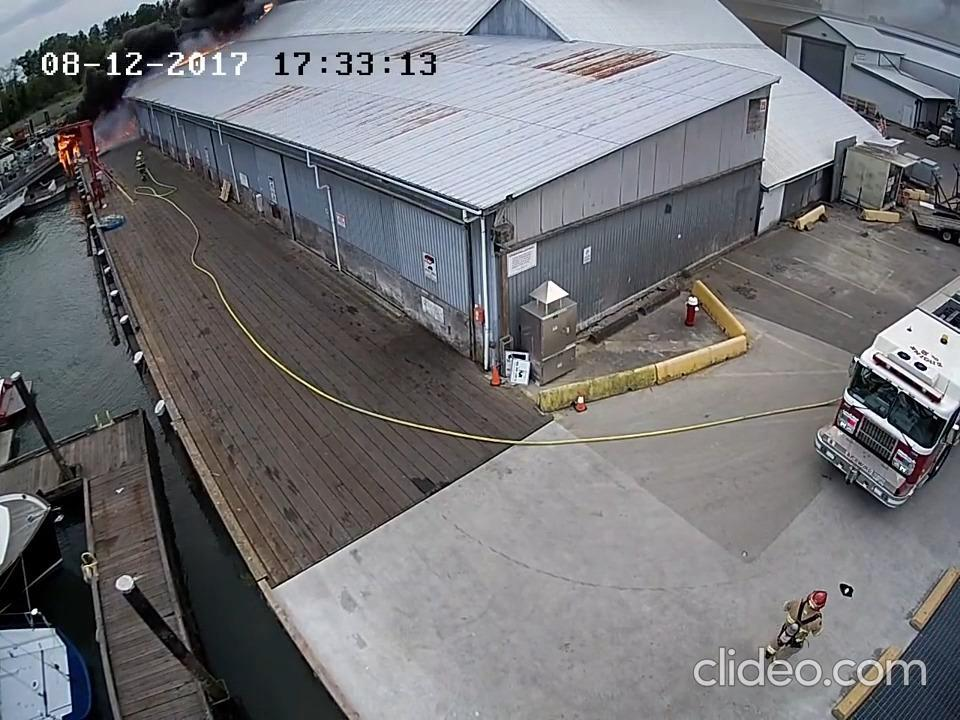fire: (51, 128, 87, 174)
